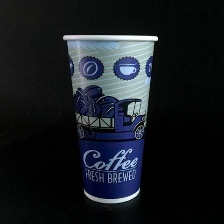paper_cup: (59, 28, 161, 206)
